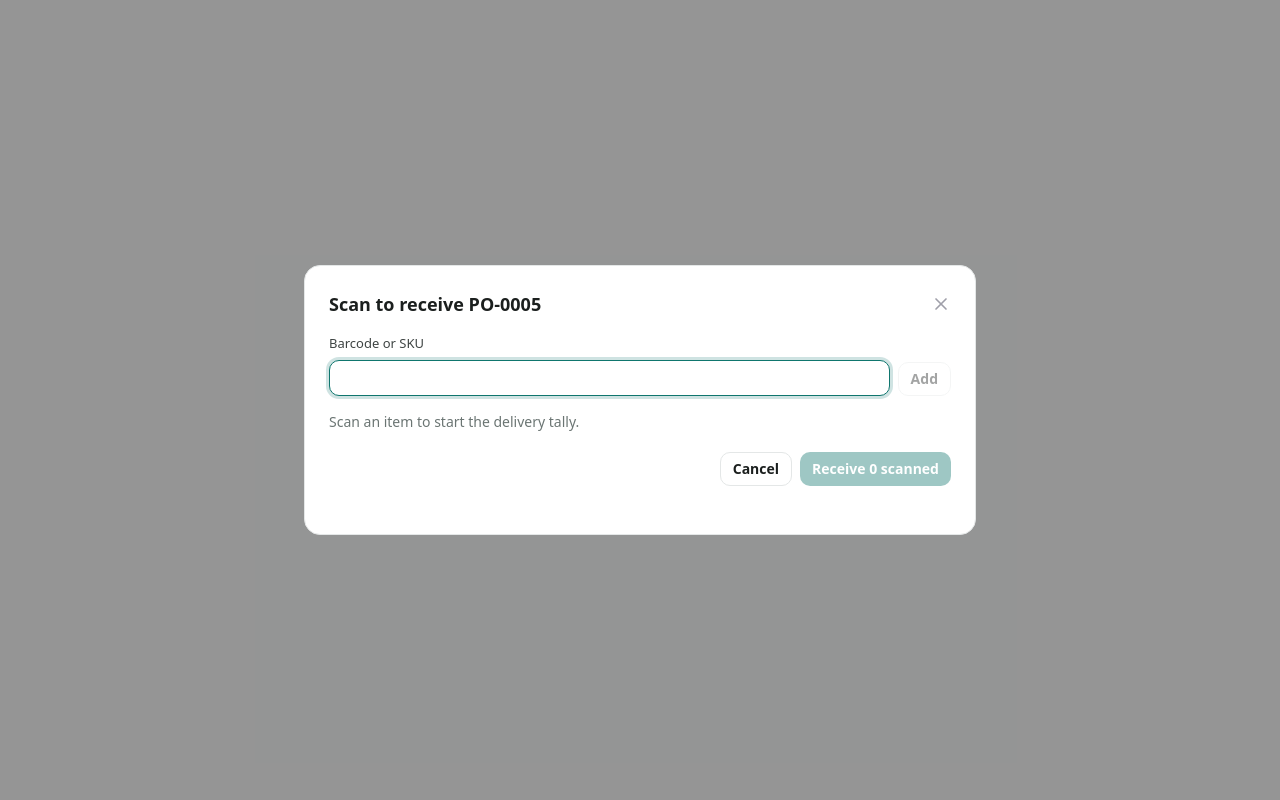
Test: ScanReceiveModal › shows the server's reason for a rejected scan and does not add to the tally
The image size is (1280, 800).
Type "ZZZ" into the field labelled "Barcode or SKU" at (609, 378), box [329,360,890,396]
Then press Enter
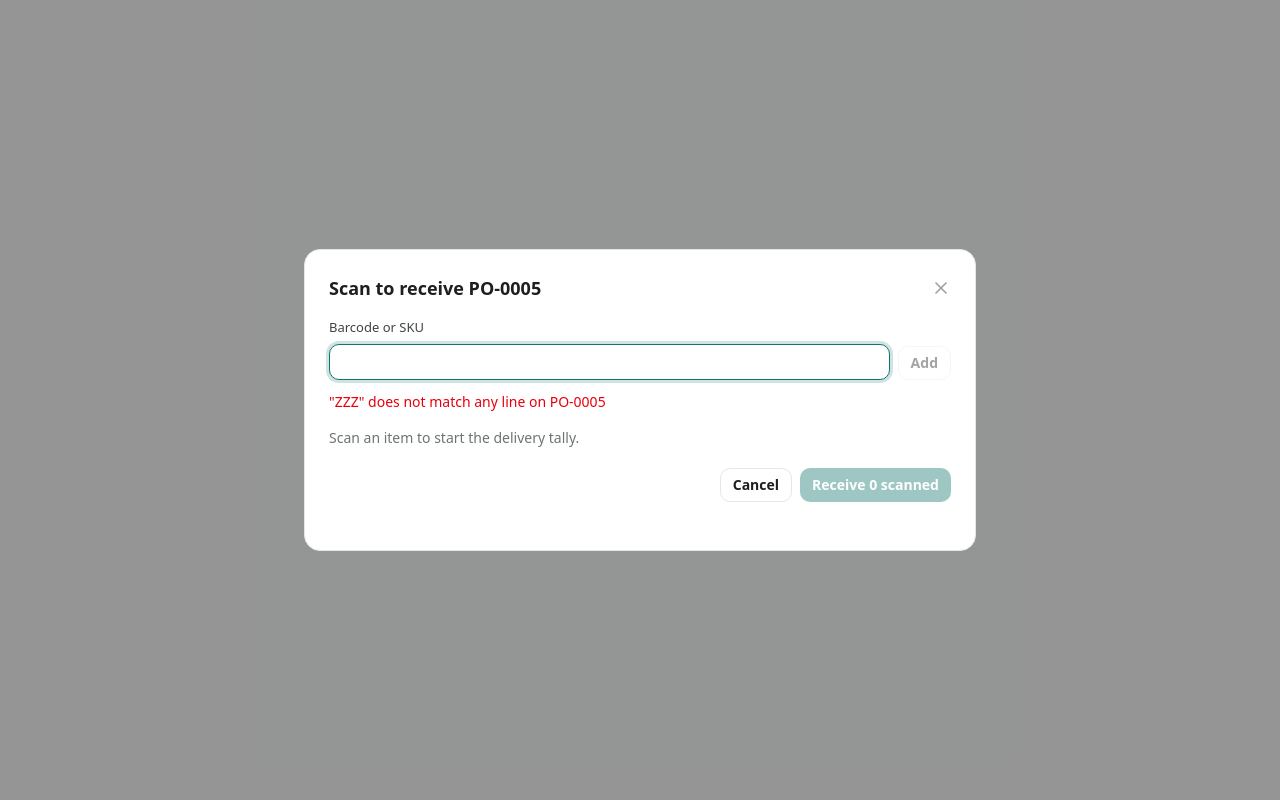
Check: the button "Receive 0 scanned" is disabled, box [800,468,951,502]
Check: the message shows "does not match any line", box [329,392,606,411]
